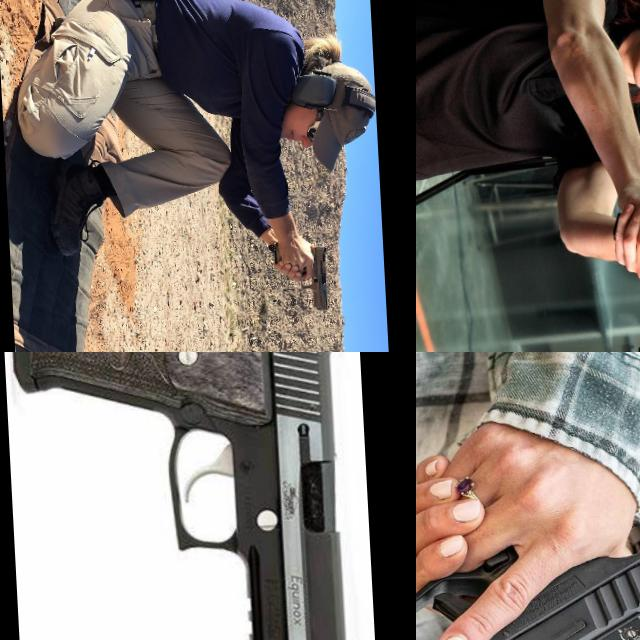handgun: (3, 352, 367, 640), (416, 535, 640, 640), (296, 240, 332, 312)
